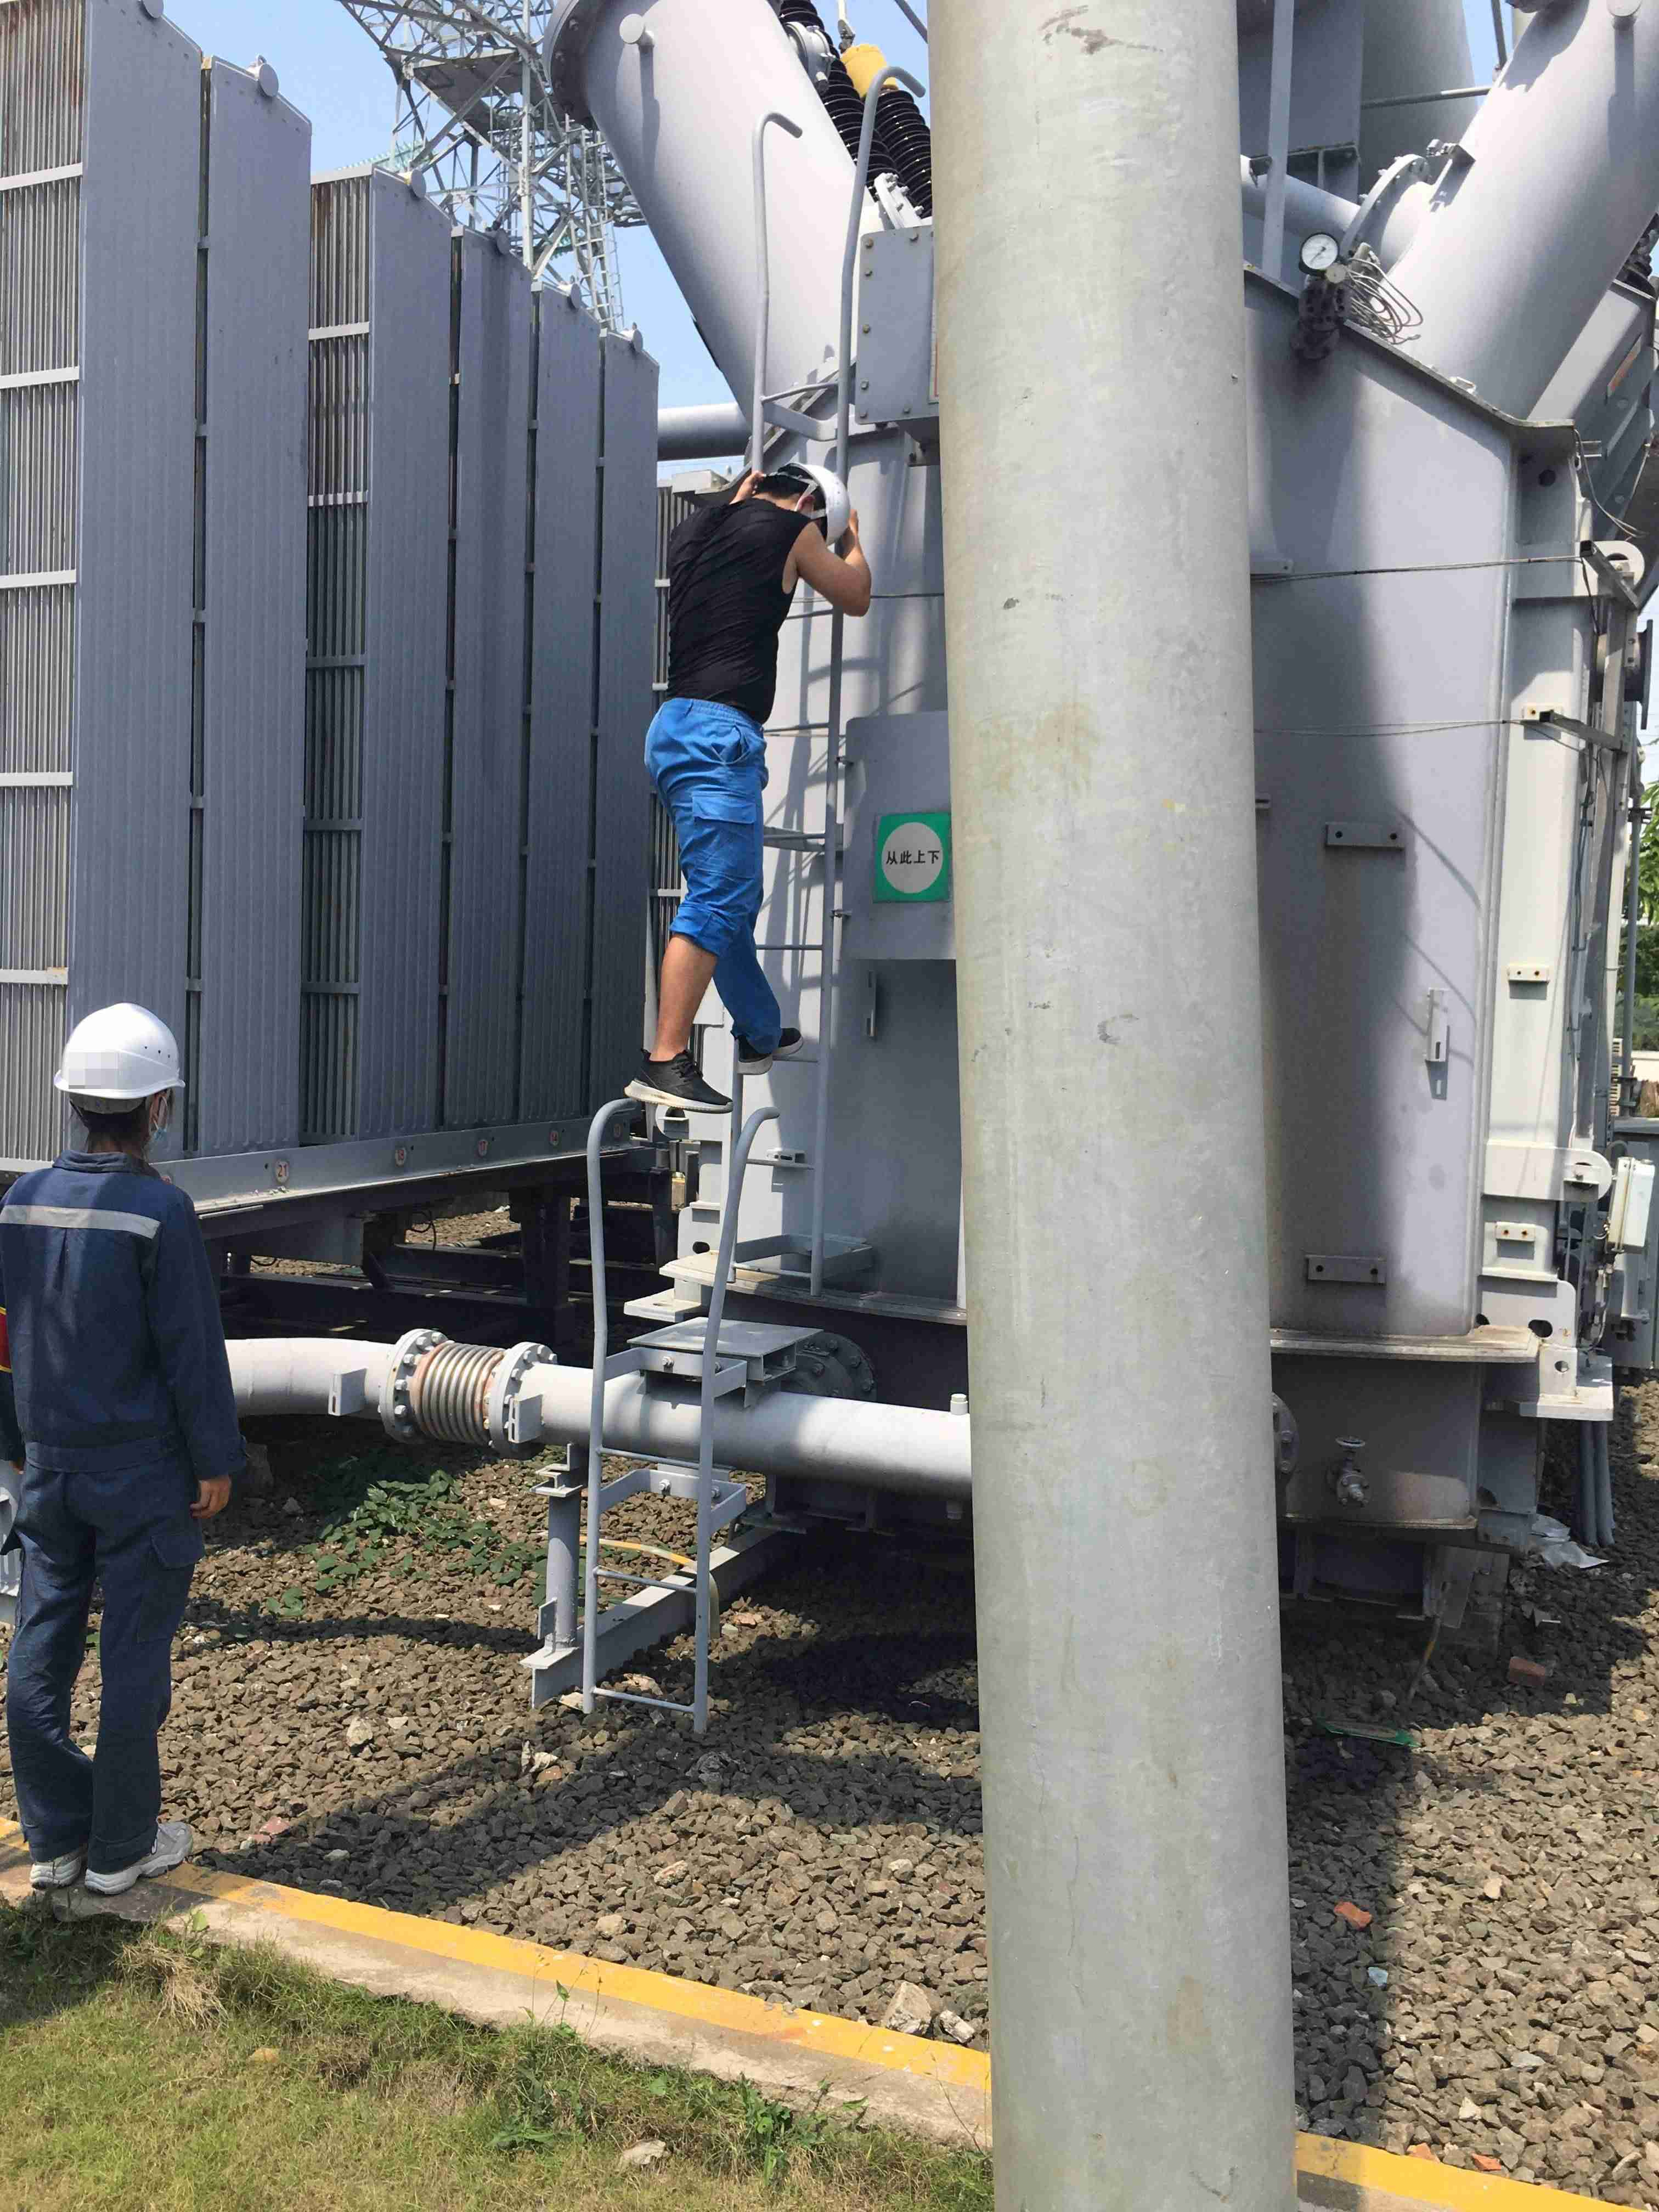downsuit: (3, 1470, 211, 1878), (641, 702, 786, 1066)
upcloth: (662, 500, 814, 728)
upsuit: (2, 1148, 251, 1477)
wrongbottom: (657, 904, 735, 1066)
